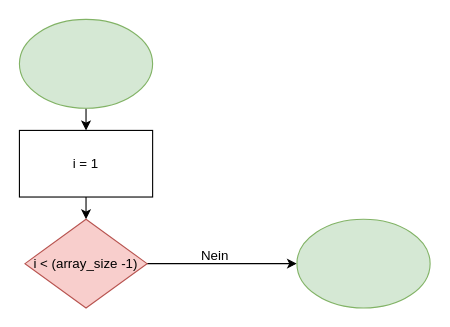
Image size: 450x327. Some labels were removed from this diagram. Here are the shapes that lost their labels. From the top down, the centre of each, then its label:
At point 85,63: "Start Parameter: numbers[], arr_size".
At point 363,263: "Ende".
